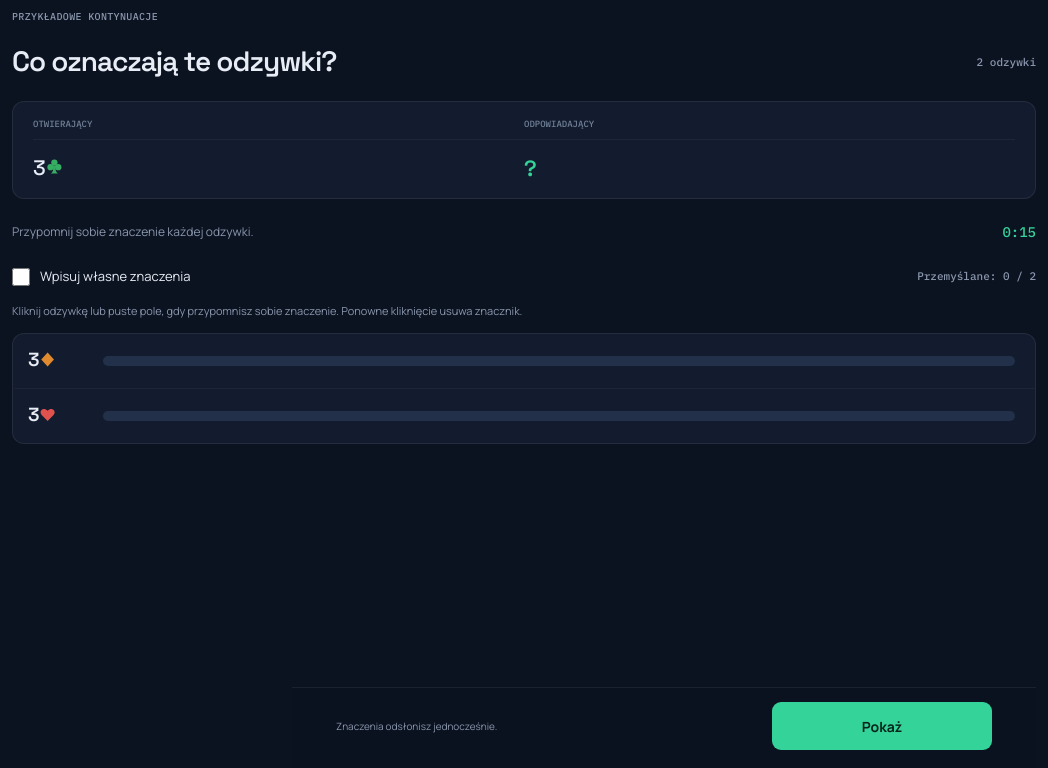
Test case: ekran karty › ręczne odsłonięcie zatrzymuje timer
This screenshot has width=1048, height=768.
Click the button "Pokaż" at (882, 726), box [772, 702, 992, 750]
Wait 30000 ms
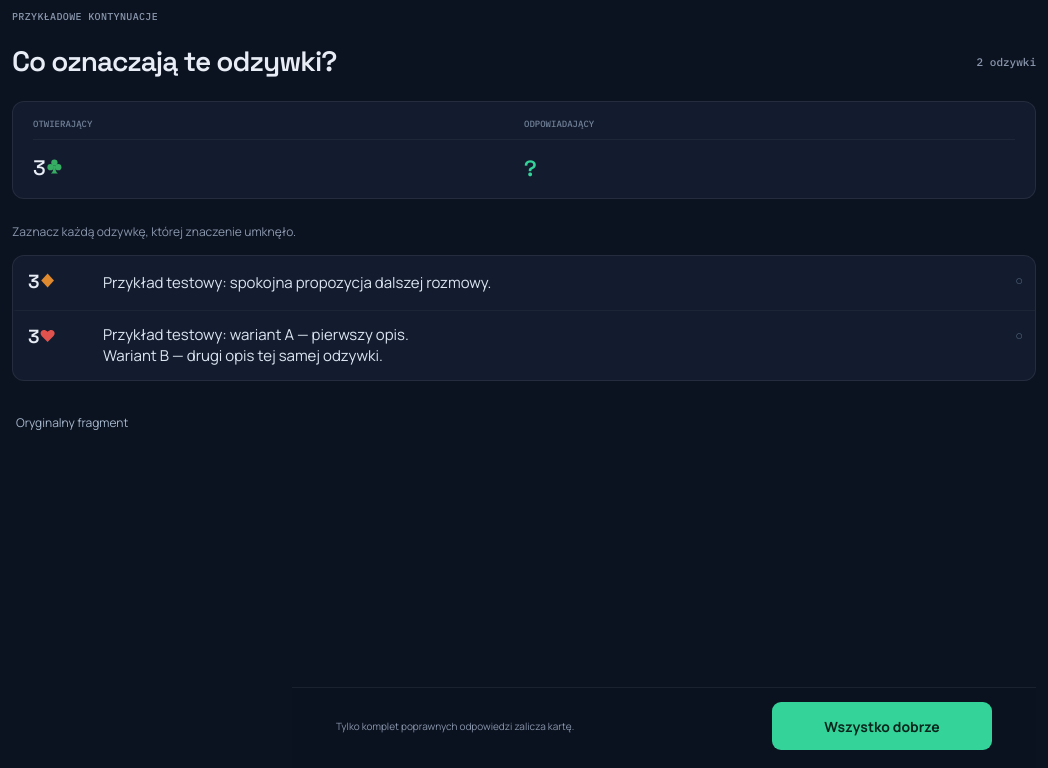
Result: the button "Wszystko dobrze" is shown at [772, 702, 992, 750]
